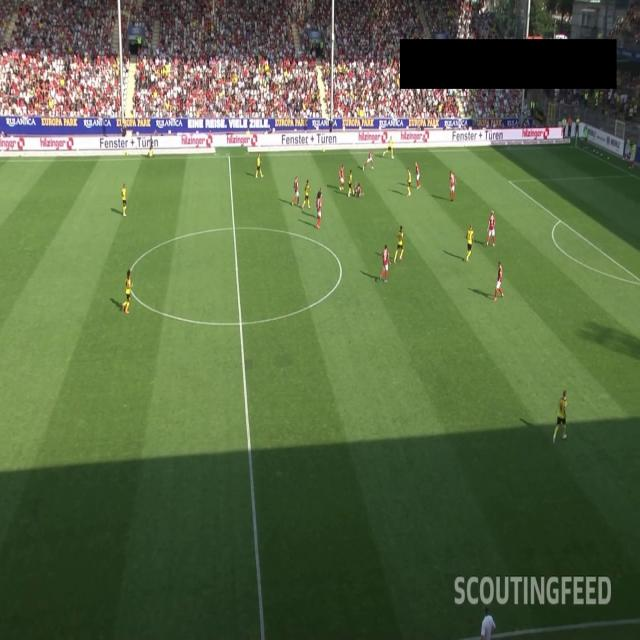player: (556, 387, 566, 440), (380, 245, 390, 287), (123, 270, 131, 320), (488, 207, 496, 248), (384, 131, 394, 160), (494, 263, 502, 299), (448, 170, 456, 203), (363, 146, 373, 172), (466, 222, 473, 259), (303, 180, 310, 213), (405, 166, 412, 196), (256, 152, 263, 180), (338, 163, 345, 191), (316, 195, 322, 227), (122, 183, 127, 219), (415, 156, 421, 186), (397, 225, 402, 261), (294, 175, 299, 209), (353, 180, 362, 197), (347, 166, 352, 192)
